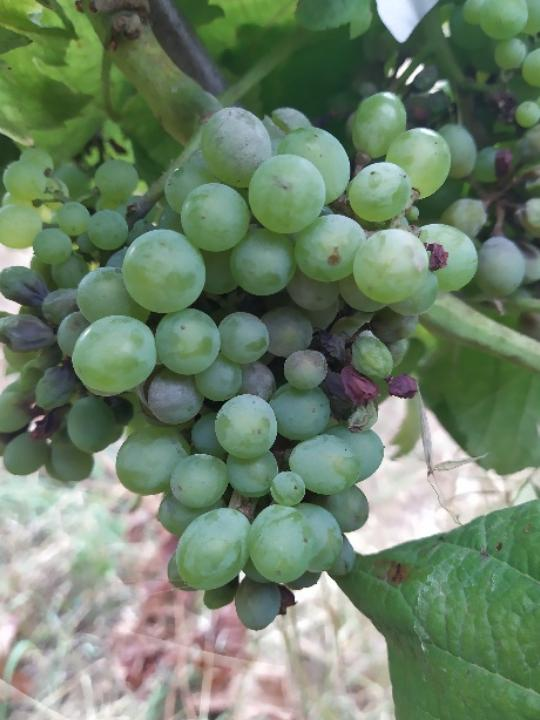grape: (0, 87, 484, 637)
